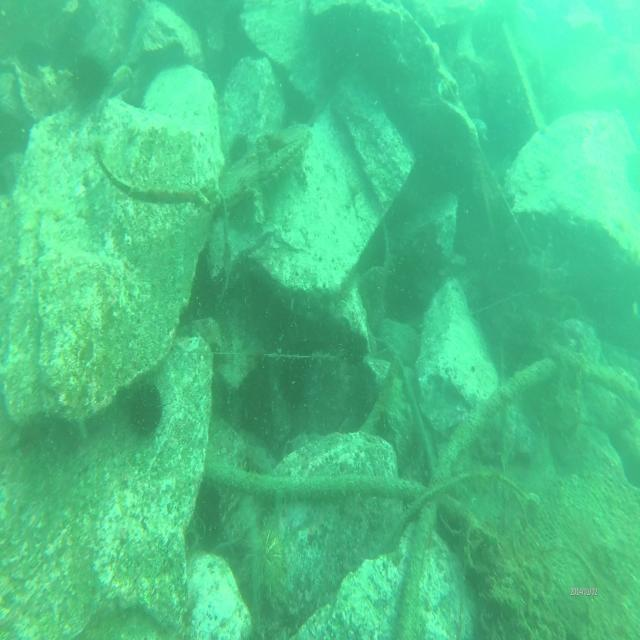echinus: (248, 526, 288, 600), (126, 375, 169, 442), (69, 49, 108, 107), (342, 324, 370, 372), (282, 363, 305, 412), (227, 131, 248, 164)
